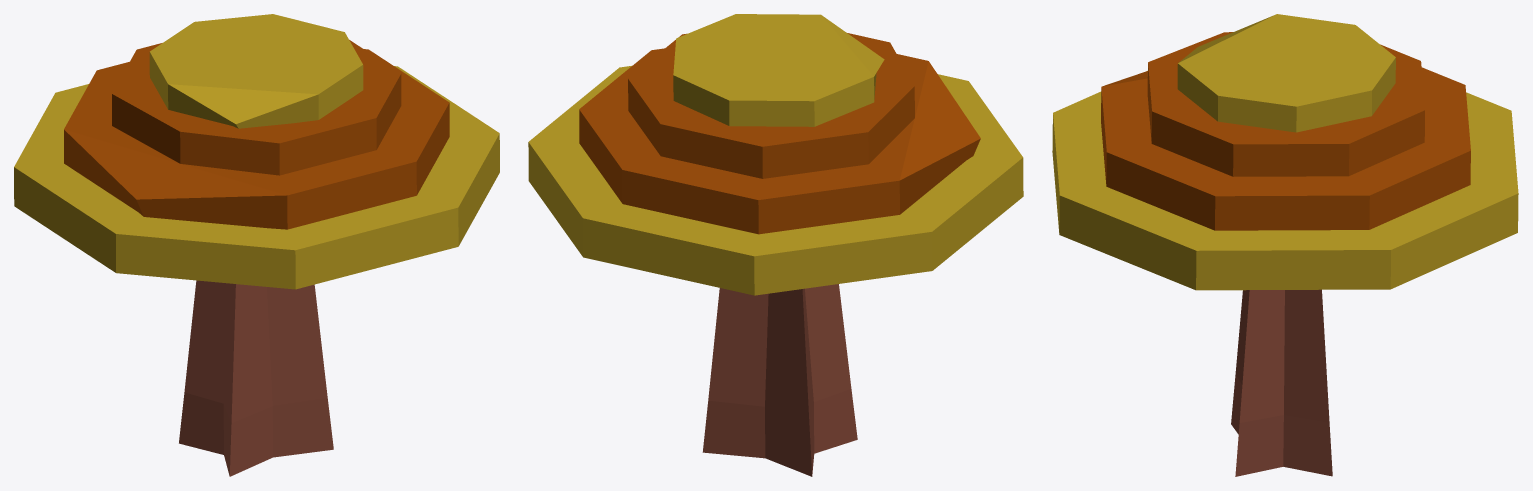
Rendered from Invasora.fbx.
3 renders of one model, left to right at view 1: azimuth 30°, elevation 25°; view 2: azimuth 150°, elevation 25°; view 3: azimuth 270°, elevation 25°, orthographic.
Parts seen in each view (by area): view 1: Cube.023; view 2: Cube.023; view 3: Cube.023.
Boxes of the visible parts, x1=… form: Cube.023: x1=14, y1=14, x2=499, y2=476; Cube.023: x1=528, y1=14, x2=1023, y2=476; Cube.023: x1=1052, y1=14, x2=1518, y2=476.
Size of the model in its own units: 1206 by 1123 by 1207.
